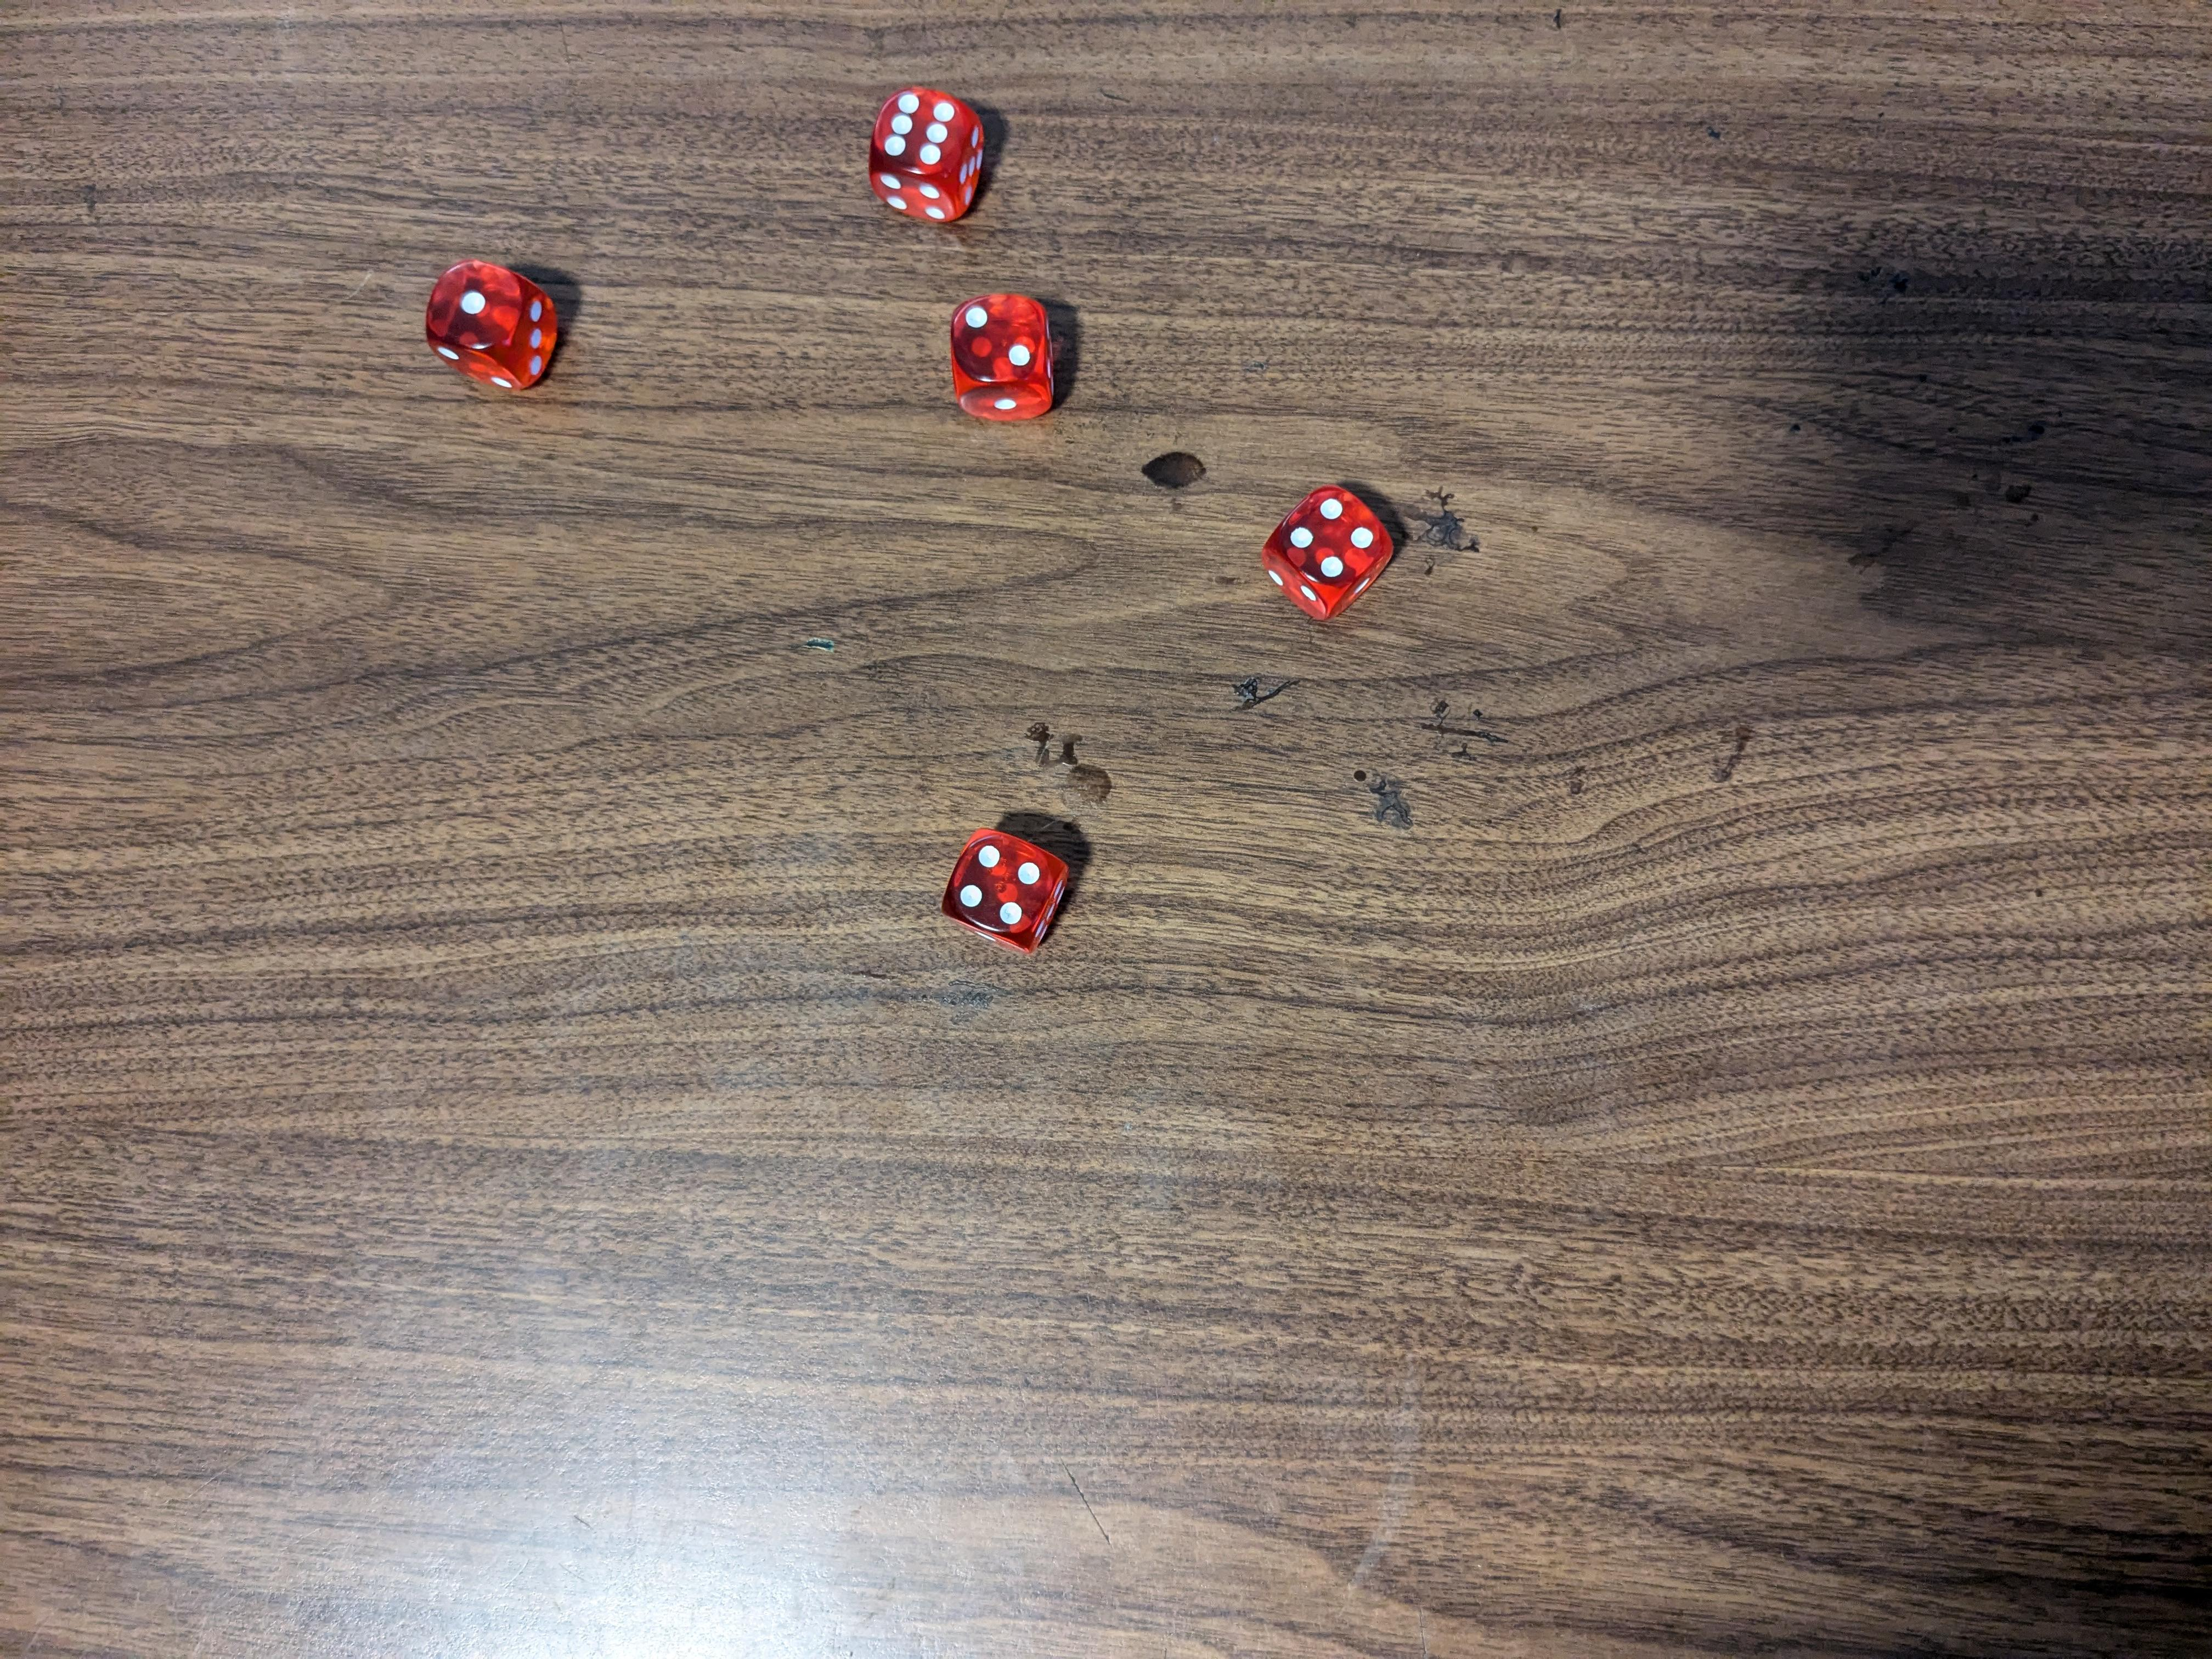four: (1258, 479, 1402, 619), (944, 823, 1080, 953)
one: (425, 256, 561, 396)
six: (866, 80, 995, 227)
two: (956, 291, 1054, 423)
